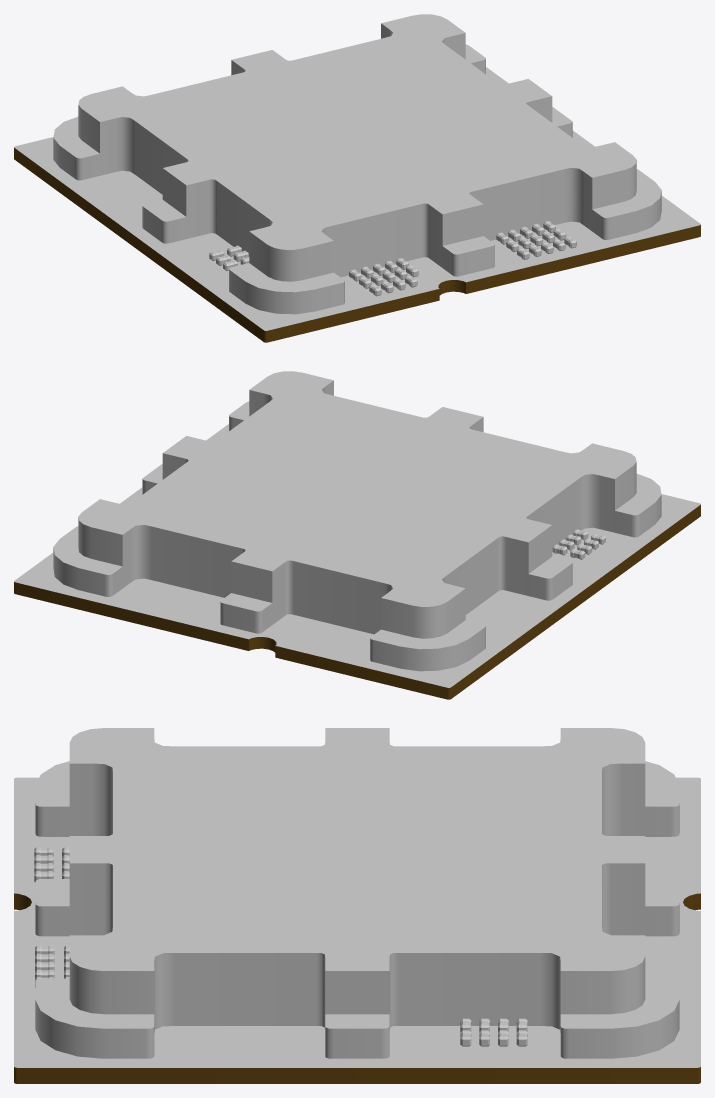
The model's file is Ryzen5.obj.
The picture shows the model from 3 angles, top to bottom: view 1: azimuth 30°, elevation 25°; view 2: azimuth 150°, elevation 25°; view 3: azimuth 270°, elevation 25°; orthographic projection. The views are drawn at different scales.
Parts seen in each view (by area): view 1: CPUBoardBottom_CPUCase, CPUBoardBottom_CPUText, CPUBoardBottom_CPUBoard, CPUBoardBottom_CPUBoardSide; view 2: CPUBoardBottom_CPUCase, CPUBoardBottom_CPUText, CPUBoardBottom_CPUBoard, CPUBoardBottom_CPUBoardSide; view 3: CPUBoardBottom_CPUCase, CPUBoardBottom_CPUText, CPUBoardBottom_CPUBoard, CPUBoardBottom_CPUBoardSide.
Part boxes in pixels (x1,y1,x2,y2): CPUBoardBottom_CPUCase: [53, 14, 661, 314]; CPUBoardBottom_CPUText: [175, 55, 540, 209]; CPUBoardBottom_CPUBoard: [14, 67, 700, 330]; CPUBoardBottom_CPUBoardSide: [14, 147, 700, 342]; CPUBoardBottom_CPUCase: [53, 371, 661, 671]; CPUBoardBottom_CPUText: [174, 412, 539, 566]; CPUBoardBottom_CPUBoard: [14, 424, 700, 687]; CPUBoardBottom_CPUBoardSide: [14, 504, 700, 699]; CPUBoardBottom_CPUCase: [35, 728, 679, 1058]; CPUBoardBottom_CPUText: [175, 772, 539, 926]; CPUBoardBottom_CPUBoard: [14, 777, 700, 1067]; CPUBoardBottom_CPUBoardSide: [14, 893, 700, 1083].
Size of the model in its own units: 0.04 by 0.00573 by 0.04.
